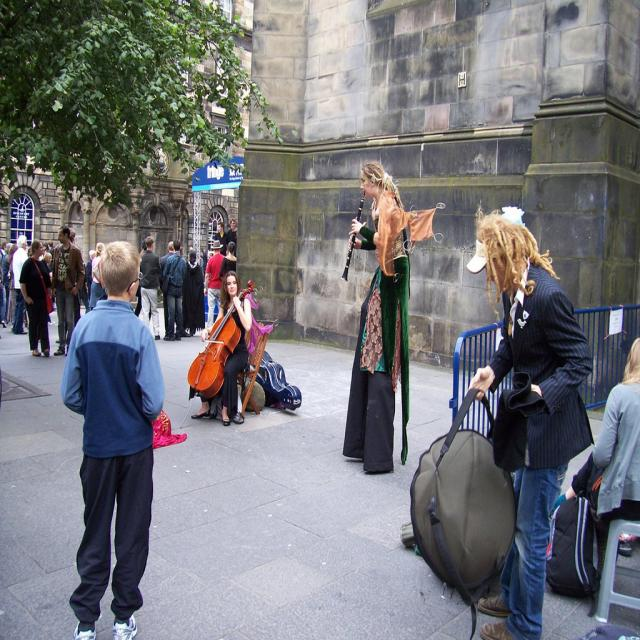cello: (184, 278, 256, 400)
clarinet: (341, 182, 370, 290)
